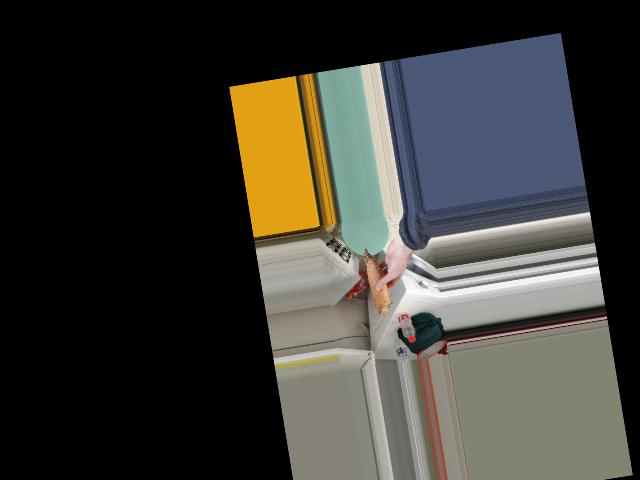sweet_potato: (363, 246, 391, 311)
